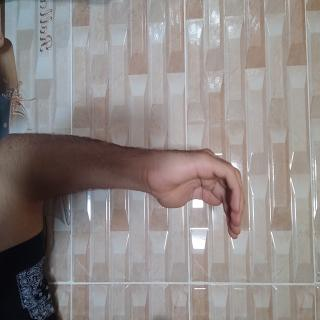HAA: (103, 89, 184, 242)
